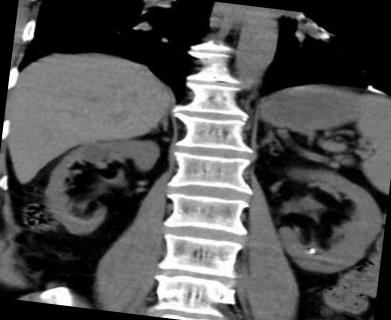Tas_Var: (306, 246, 318, 255)
